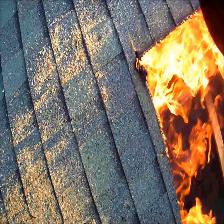fire: (137, 25, 219, 90)
